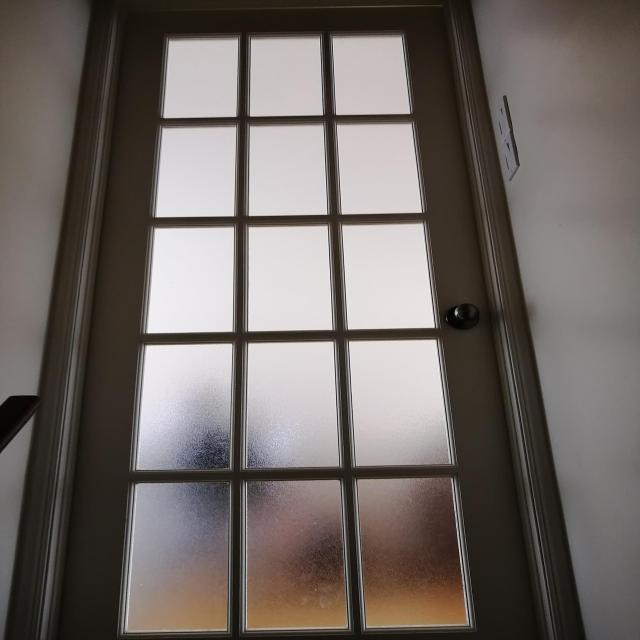door-knob: (445, 304, 480, 330)
